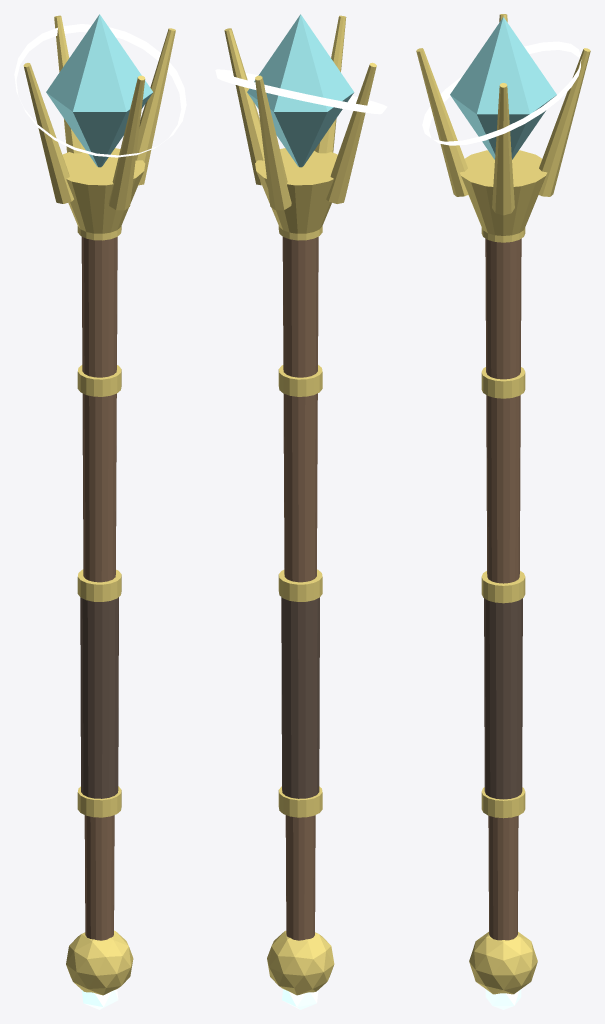
Rendered from Baston_Principal_Modular.fbx.
3 renders of one model, left to right at view 1: azimuth 30°, elevation 25°; view 2: azimuth 150°, elevation 25°; view 3: azimuth 270°, elevation 25°, orthographic.
Visible parts, largest first — view 1: Staff_Shaft, Staff_ArcaneCore, Staff_Grip, Staff_HeadBase, Staff_Pommel, Staff_Claw_2, Staff_Claw_1, Staff_OrbitRing, Staff_Claw_3, Staff_Ring_0.22, Staff_Ring_1.4, Staff_Ring_-1.02 (+2 smaller); view 2: Staff_Shaft, Staff_Grip, Staff_ArcaneCore, Staff_HeadBase, Staff_Pommel, Staff_Claw_0, Staff_Claw_1, Staff_Claw_3, Staff_OrbitRing, Staff_Ring_0.22, Staff_Ring_1.4, Staff_Ring_-1.02 (+2 smaller); view 3: Staff_Shaft, Staff_Grip, Staff_ArcaneCore, Staff_HeadBase, Staff_Pommel, Staff_Claw_2, Staff_Claw_0, Staff_Claw_3, Staff_OrbitRing, Staff_Ring_0.22, Staff_Ring_1.4, Staff_Ring_-1.02 (+1 smaller).
Part boxes in pixels (<box>): Staff_Shaft: <box>81,237,117,940</box>; Staff_ArcaneCore: <box>46,14,153,167</box>; Staff_Grip: <box>80,597,118,798</box>; Staff_HeadBase: <box>62,148,145,233</box>; Staff_Pommel: <box>66,930,133,995</box>; Staff_Claw_2: <box>108,75,145,210</box>; Staff_Claw_1: <box>23,63,73,203</box>; Staff_OrbitRing: <box>14,24,186,157</box>; Staff_Claw_3: <box>135,28,175,185</box>; Staff_Ring_0.22: <box>77,569,121,601</box>; Staff_Ring_1.4: <box>77,365,121,396</box>; Staff_Ring_-1.02: <box>77,786,121,817</box>; Staff_Shaft: <box>282,236,318,940</box>; Staff_Grip: <box>281,597,319,798</box>; Staff_ArcaneCore: <box>247,14,354,167</box>; Staff_HeadBase: <box>255,148,337,233</box>; Staff_Pommel: <box>267,930,334,995</box>; Staff_Claw_0: <box>255,75,291,210</box>; Staff_Claw_1: <box>326,62,376,203</box>; Staff_Claw_3: <box>224,28,264,185</box>; Staff_OrbitRing: <box>215,69,387,114</box>; Staff_Ring_0.22: <box>278,569,322,601</box>; Staff_Ring_1.4: <box>278,365,322,396</box>; Staff_Ring_-1.02: <box>278,786,322,817</box>; Staff_Shaft: <box>485,238,521,940</box>; Staff_Grip: <box>484,598,522,799</box>; Staff_ArcaneCore: <box>450,17,556,159</box>; Staff_HeadBase: <box>459,150,547,235</box>; Staff_Pommel: <box>469,932,537,994</box>; Staff_Claw_2: <box>416,48,468,196</box>; Staff_Claw_0: <box>538,48,590,196</box>; Staff_Claw_3: <box>492,83,514,215</box>; Staff_OrbitRing: <box>422,41,581,145</box>; Staff_Ring_0.22: <box>481,571,525,603</box>; Staff_Ring_1.4: <box>481,367,525,398</box>; Staff_Ring_-1.02: <box>481,787,525,818</box>.
Bounding box in the file's own units: 92 × 573 × 91.27.
